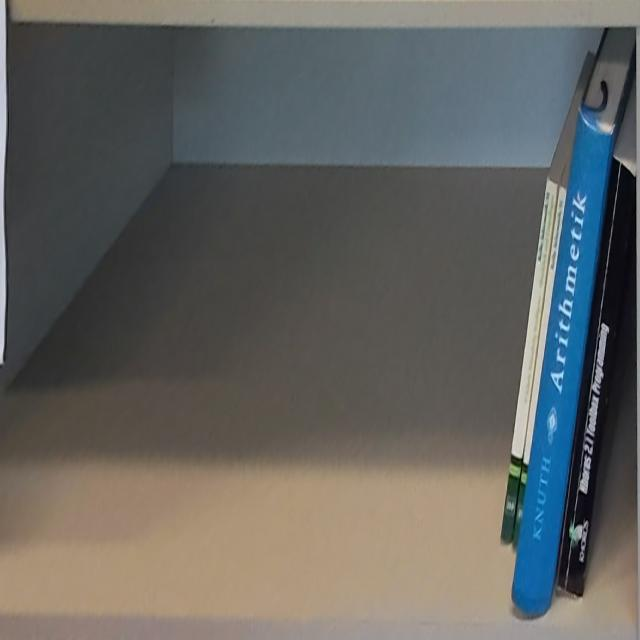Book Spine: (510, 111, 615, 618), (557, 156, 634, 598), (500, 175, 558, 545), (513, 187, 567, 550)
